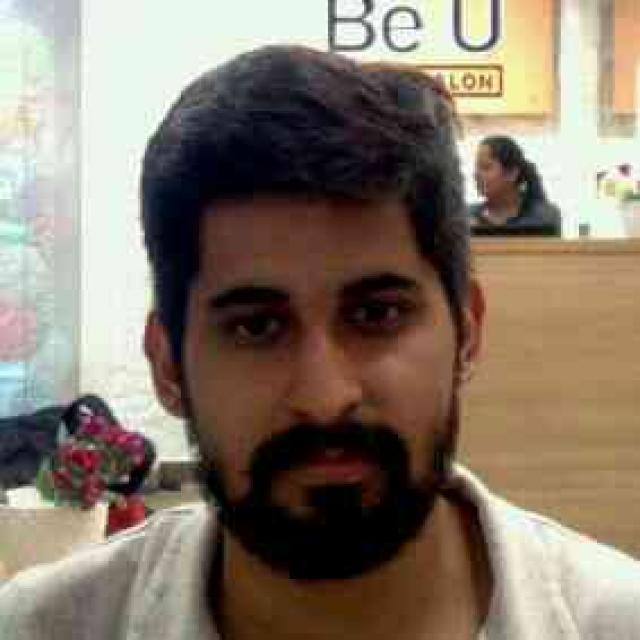Puffy Eyes - v3 Dark Circle: (335, 328, 399, 359)
